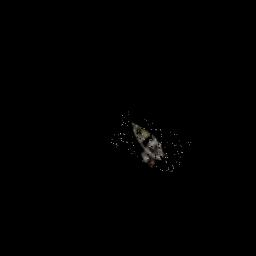boat: (123, 113, 180, 173), (133, 150, 163, 174)
